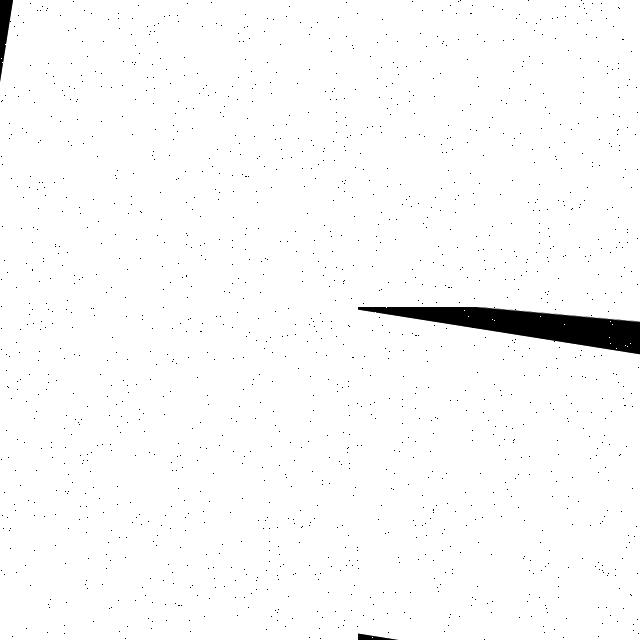drone: (358, 0, 640, 307), (358, 307, 640, 379)
